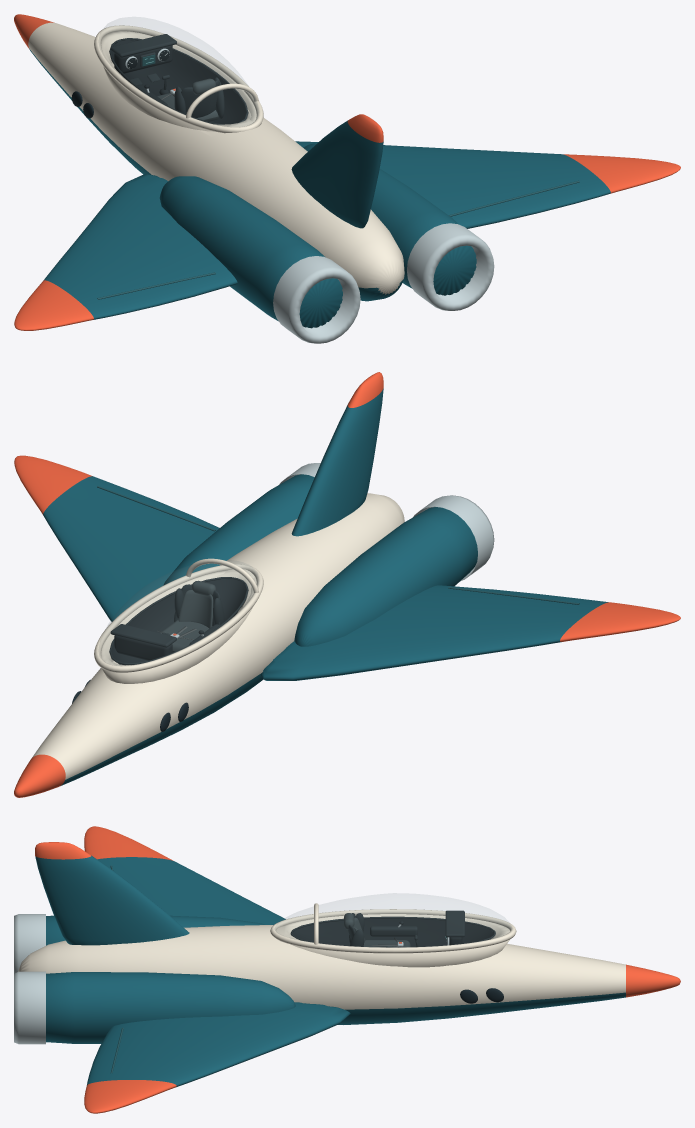
The model's file is super-jet.glb.
The picture shows the model from 3 angles, top to bottom: view 1: azimuth 30°, elevation 25°; view 2: azimuth 150°, elevation 25°; view 3: azimuth 270°, elevation 25°; orthographic projection. The views are drawn at different scales.
Visible parts, largest first — view 1: toy-super-jet; view 2: toy-super-jet; view 3: toy-super-jet.
Boxes of the visible parts, bbox=[...] form: toy-super-jet: bbox=[14, 14, 680, 343]; toy-super-jet: bbox=[14, 372, 680, 797]; toy-super-jet: bbox=[14, 826, 680, 1113].
Size of the model in its own units: 6.26 by 1.8 by 6.16.
